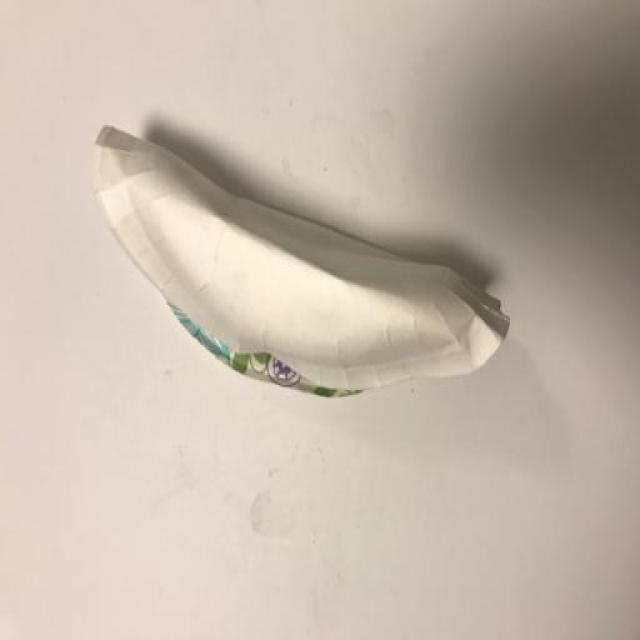paper: (91, 106, 511, 423)
